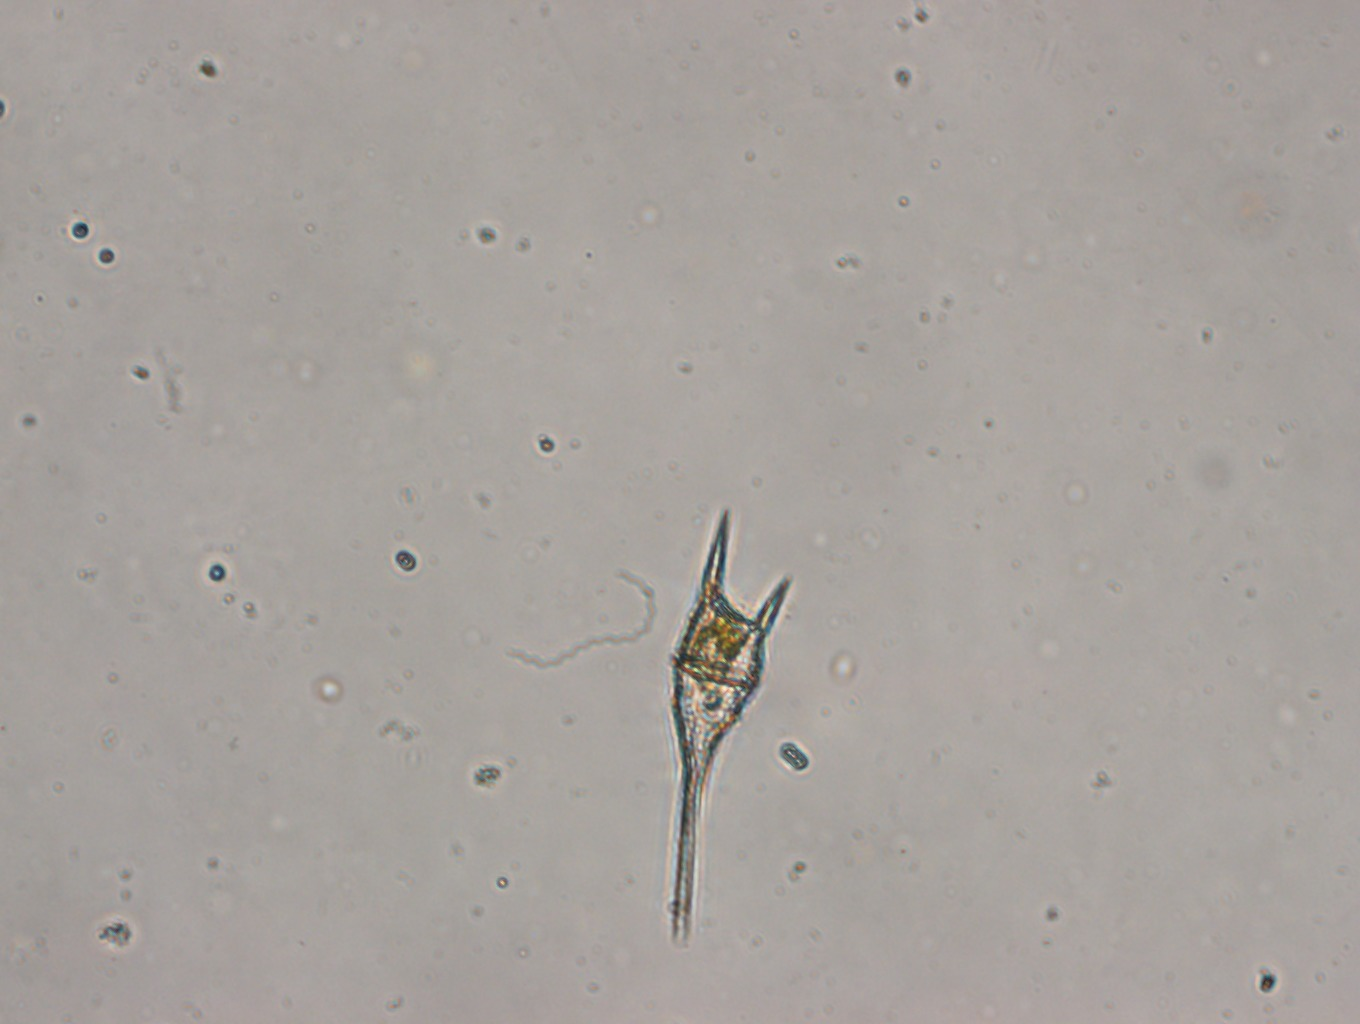ceratium furca: (653, 496, 794, 958)
